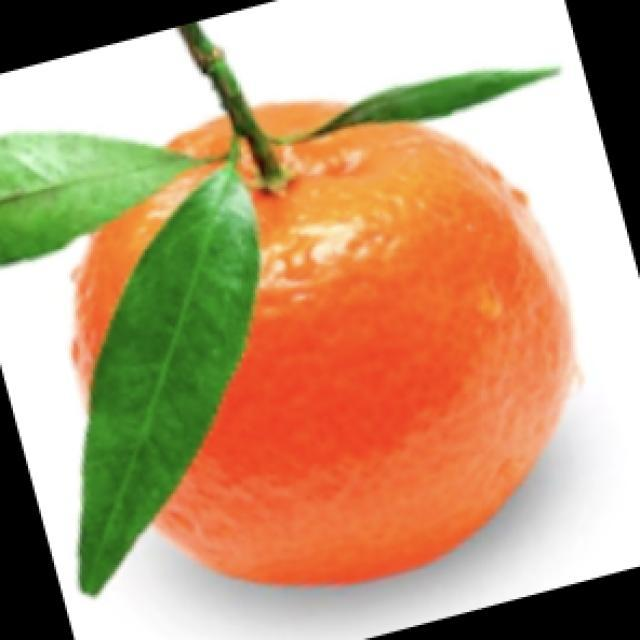matang: (156, 123, 572, 582), (71, 164, 219, 393), (255, 102, 343, 135), (169, 117, 230, 157)
